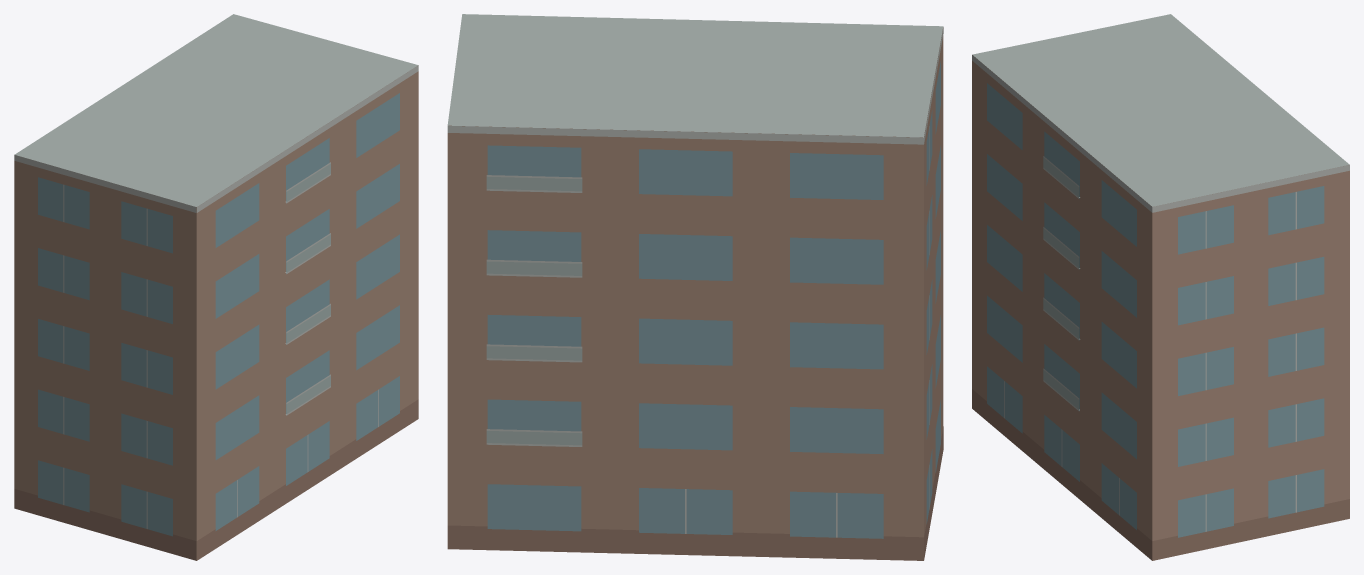
Rendered from survey-upis-32949476.glb.
3 renders of one model, left to right at view 1: azimuth 30°, elevation 25°; view 2: azimuth 150°, elevation 25°; view 3: azimuth 270°, elevation 25°, orthographic. The views are drawn at different scales.
Parts seen in each view (by area): view 1: survey-upis-32949476.tmp; view 2: survey-upis-32949476.tmp; view 3: survey-upis-32949476.tmp.
Boxes of the visible parts, box(x1,y1,x2,y2) form: survey-upis-32949476.tmp: box(14, 14, 418, 560); survey-upis-32949476.tmp: box(447, 14, 943, 560); survey-upis-32949476.tmp: box(972, 14, 1349, 560).
Bounding box in the file's own units: 16.83 × 14.4 × 13.93.
